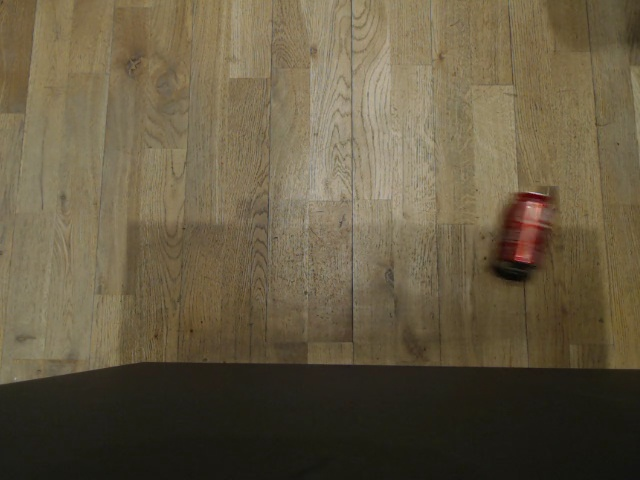coke: (493, 190, 553, 277)
